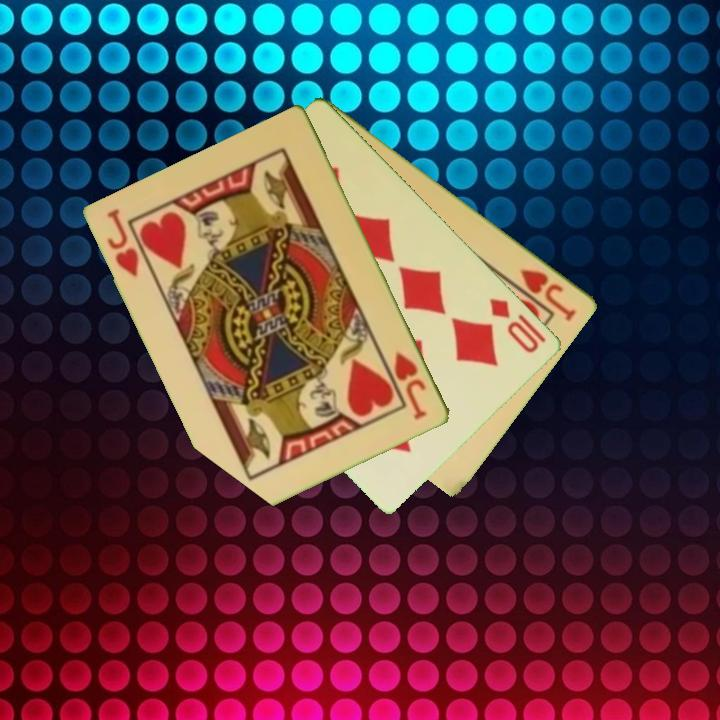10d: (486, 294, 550, 356)
Jh: (517, 265, 580, 324), (104, 205, 143, 281), (391, 349, 430, 424)
